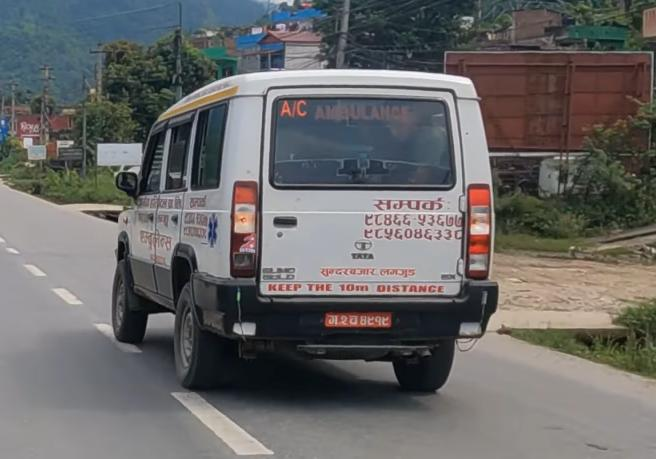ambulance: (105, 67, 503, 403)
